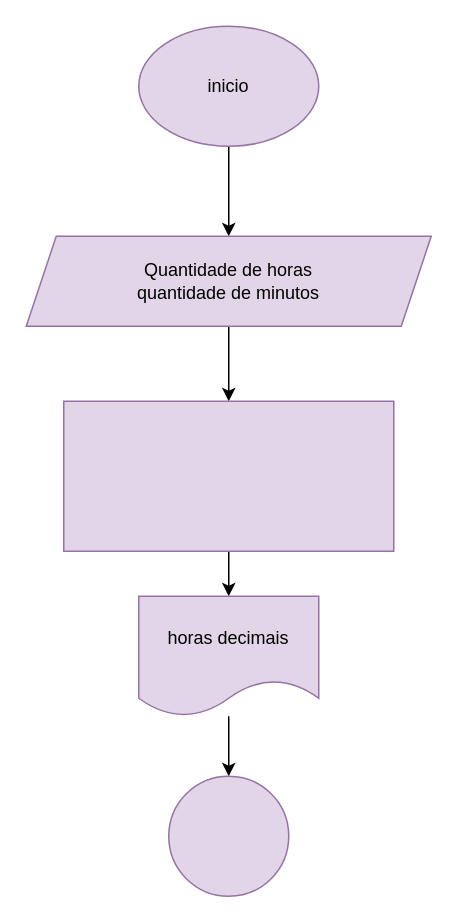
This 458x923 diagram has some shape labels left out. Each missing label, with the centre of its shape:
"fim" belongs at (x=228, y=835).
"min_decimal = min / 60 horas_decimal = horas + min_decimal" belongs at (x=228, y=475).
